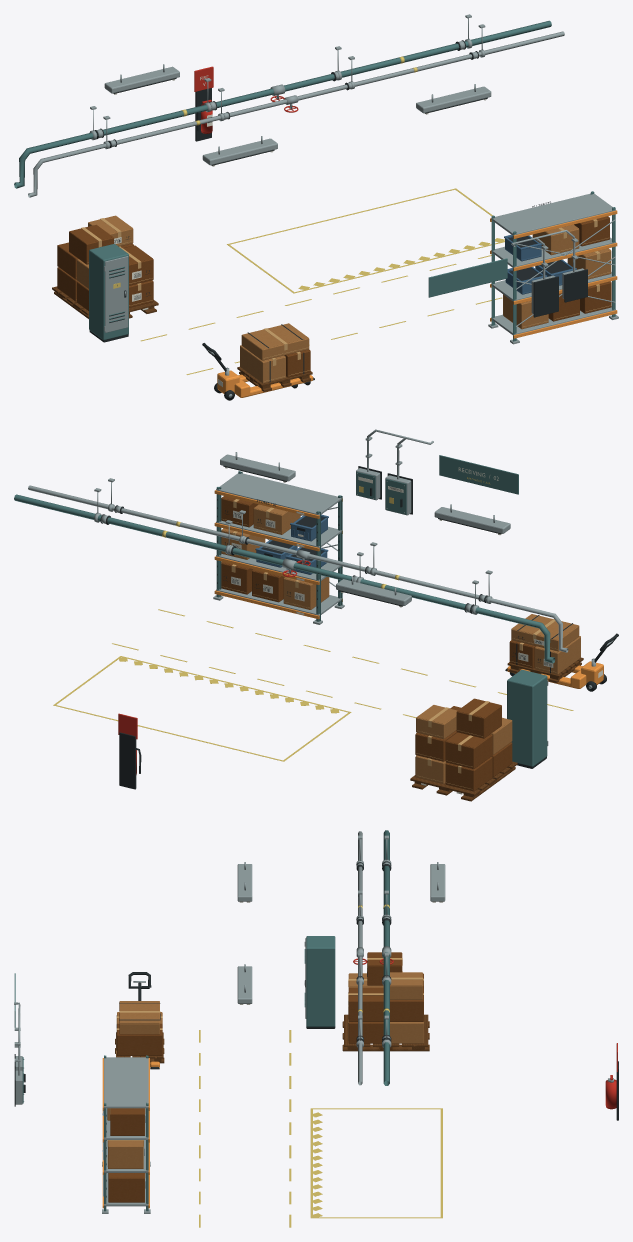
Rendered from service-props.glb.
3 renders of one model, top to bottom at view 1: azimuth 30°, elevation 25°; view 2: azimuth 150°, elevation 25°; view 3: azimuth 270°, elevation 25°, orthographic. The views are drawn at different scales.
Visible parts, largest first — view 1: Service corridor / 01 — satin galvanized steel, Service corridor / 03 — petrol blue powder coat, Service corridor / 06 — light kraft cardboard, Service corridor / 05 — kraft cardboard, Service corridor / 02 — charcoal rubber and markings, Service corridor / 04 — safety ochre enamel, Service corridor / 10 — faded safety yellow, Service corridor / 12 — blue polypropylene tote, Service corridor / 08 — sawn pallet timber, Service corridor / 07 — brown packing tape, Service corridor / 11 — fire equipment enamel; view 2: Service corridor / 01 — satin galvanized steel, Service corridor / 03 — petrol blue powder coat, Service corridor / 05 — kraft cardboard, Service corridor / 06 — light kraft cardboard, Service corridor / 02 — charcoal rubber and markings, Service corridor / 04 — safety ochre enamel, Service corridor / 10 — faded safety yellow, Service corridor / 08 — sawn pallet timber, Service corridor / 12 — blue polypropylene tote, Service corridor / 07 — brown packing tape, Service corridor / 09 — aged white printed labels, Service corridor / 11 — fire equipment enamel; view 3: Service corridor / 01 — satin galvanized steel, Service corridor / 05 — kraft cardboard, Service corridor / 03 — petrol blue powder coat, Service corridor / 06 — light kraft cardboard, Service corridor / 10 — faded safety yellow, Service corridor / 08 — sawn pallet timber, Service corridor / 02 — charcoal rubber and markings, Service corridor / 04 — safety ochre enamel, Service corridor / 07 — brown packing tape.
Boxes of the visible parts, x1,y1,x2,y2 form: Service corridor / 01 — satin galvanized steel: (28,14,618,397); Service corridor / 03 — petrol blue powder coat: (14,20,615,341); Service corridor / 06 — light kraft cardboard: (77,215,611,383); Service corridor / 05 — kraft cardboard: (57,216,611,377); Service corridor / 02 — charcoal rubber and markings: (89,40,587,400); Service corridor / 04 — safety ochre enamel: (217,210,617,397); Service corridor / 10 — faded safety yellow: (113,56,504,374); Service corridor / 12 — blue polypropylene tote: (504,234,576,294); Service corridor / 08 — sawn pallet timber: (52,286,312,391); Service corridor / 07 — brown packing tape: (81,218,610,381); Service corridor / 11 — fire equipment enamel: (194,66,298,133); Service corridor / 01 — satin galvanized steel: (28,429,613,745); Service corridor / 03 — petrol blue powder coat: (14,455,555,766); Service corridor / 05 — kraft cardboard: (221,496,535,791); Service corridor / 06 — light kraft cardboard: (221,504,580,783); Service corridor / 02 — charcoal rubber and markings: (100,466,618,789); Service corridor / 04 — safety ochre enamel: (214,490,603,688); Service corridor / 10 — faded safety yellow: (53,477,573,761); Service corridor / 08 — sawn pallet timber: (410,657,583,801); Service corridor / 12 — blue polypropylene tote: (255,514,328,574); Service corridor / 07 — brown packing tape: (221,499,557,789); Service corridor / 09 — aged white printed labels: (225,467,602,794); Service corridor / 11 — fire equipment enamel: (118,560,310,774); Service corridor / 01 — satin galvanized steel: (14,831,613,1213); Service corridor / 05 — kraft cardboard: (108,952,423,1202); Service corridor / 03 — petrol blue powder coat: (14,830,389,1211); Service corridor / 06 — light kraft cardboard: (107,972,423,1168); Service corridor / 10 — faded safety yellow: (199,904,442,1227); Service corridor / 08 — sawn pallet timber: (115,1014,429,1063); Service corridor / 02 — charcoal rubber and markings: (14,861,618,1197); Service corridor / 04 — safety ochre enamel: (102,1058,159,1208); Service corridor / 07 — brown packing tape: (107,958,423,1177).
Bounding box in the file's own units: 13.53 × 4.8 × 13.5.
13 materials, 3 textured.
